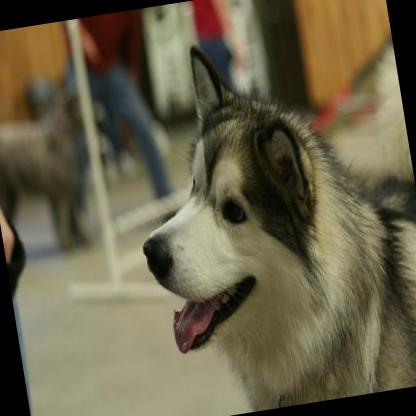malamute: (108, 8, 416, 416)
